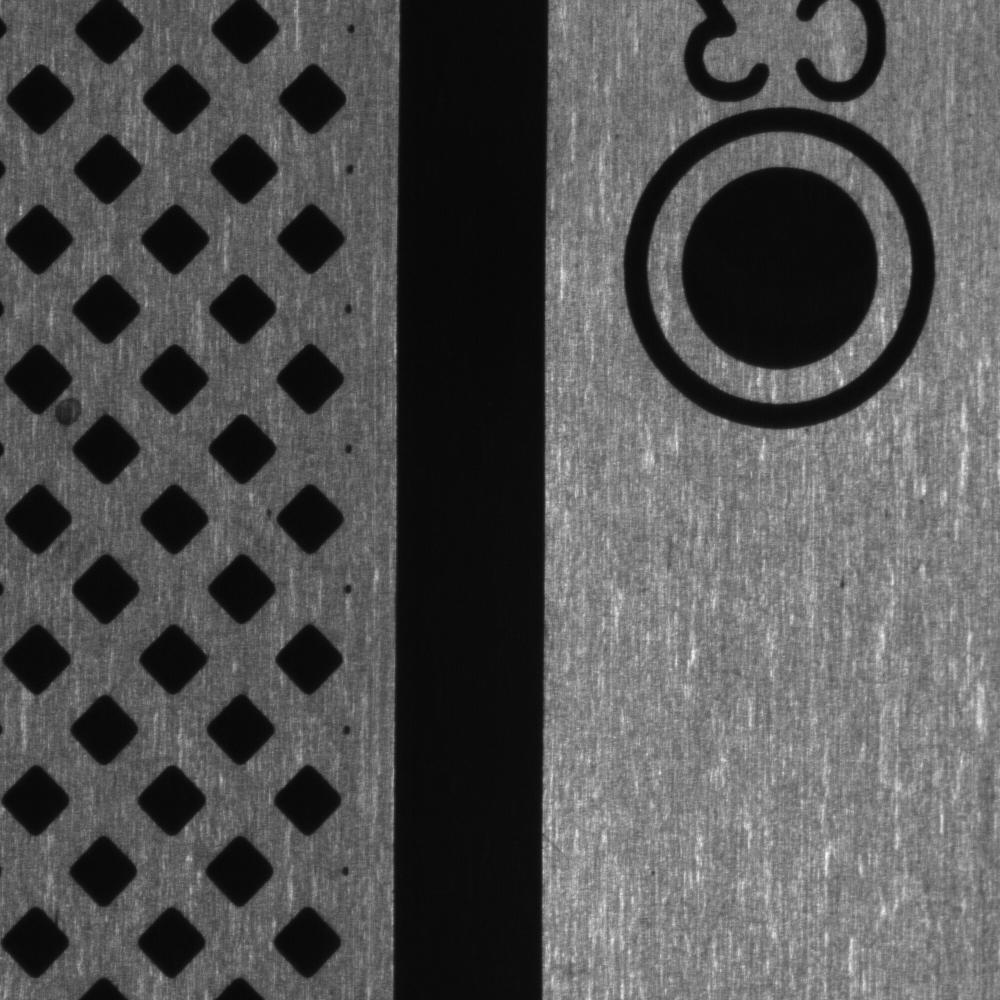Discolor: (48, 387, 93, 439)
